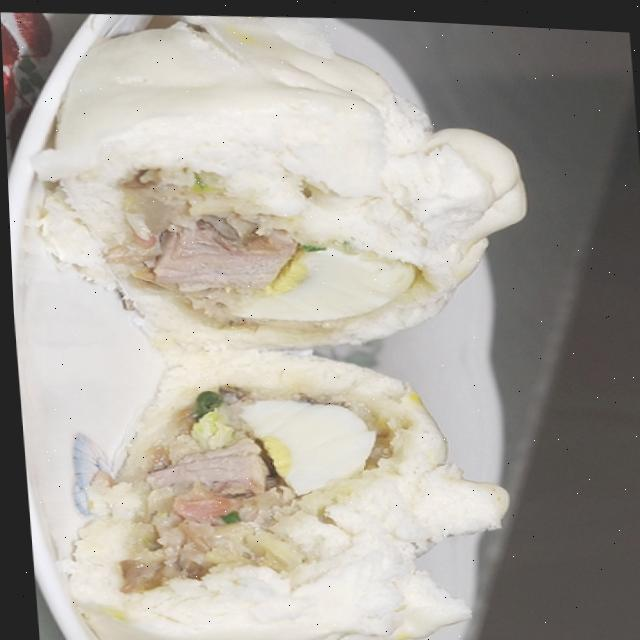带馅早点: (0, 0, 623, 640)
